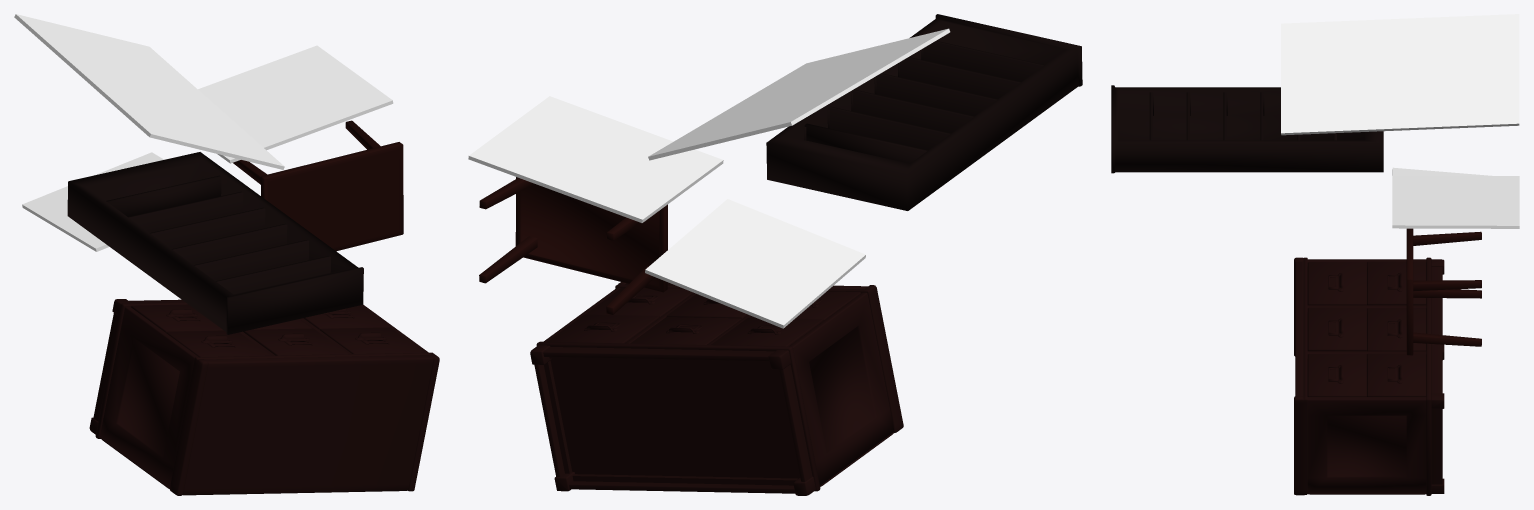
3 renders of one model, left to right at view 1: azimuth 30°, elevation 25°; view 2: azimuth 150°, elevation 25°; view 3: azimuth 270°, elevation 25°, orthographic. The views are drawn at different scales.
Parts seen in each view (by area): view 1: diffuse_cabinet_01, diffuse_shelf_03, glass_door_02, diffuse_table_02, glass_window_03, glass_table_01; view 2: diffuse_cabinet_01, diffuse_shelf_03, glass_window_03, glass_table_01, diffuse_table_02, glass_door_02; view 3: diffuse_cabinet_01, glass_door_02, diffuse_shelf_03, glass_window_03, diffuse_table_02, glass_table_01.
Part boxes in pixels (x1=…): diffuse_cabinet_01: x1=89, y1=299, x2=439, y2=495; diffuse_shelf_03: x1=67, y1=152, x2=363, y2=334; glass_door_02: x1=14, y1=14, x2=284, y2=169; diffuse_table_02: x1=233, y1=120, x2=403, y2=251; glass_window_03: x1=198, y1=45, x2=393, y2=163; glass_table_01: x1=22, y1=152, x2=163, y2=251; diffuse_cabinet_01: x1=530, y1=282, x2=903, y2=495; diffuse_shelf_03: x1=766, y1=14, x2=1082, y2=210; glass_window_03: x1=468, y1=96, x2=723, y2=222; glass_table_01: x1=645, y1=199, x2=865, y2=328; diffuse_table_02: x1=479, y1=177, x2=667, y2=314; glass_door_02: x1=648, y1=28, x2=950, y2=160; diffuse_cabinet_01: x1=1294, y1=257, x2=1444, y2=495; glass_door_02: x1=1281, y1=14, x2=1519, y2=135; diffuse_shelf_03: x1=1111, y1=85, x2=1383, y2=173; glass_window_03: x1=1392, y1=175, x2=1519, y2=228; diffuse_table_02: x1=1406, y1=228, x2=1481, y2=355; glass_table_01: x1=1392, y1=167, x2=1491, y2=175.
Bounding box in the file's own units: 214 × 259 × 257.
